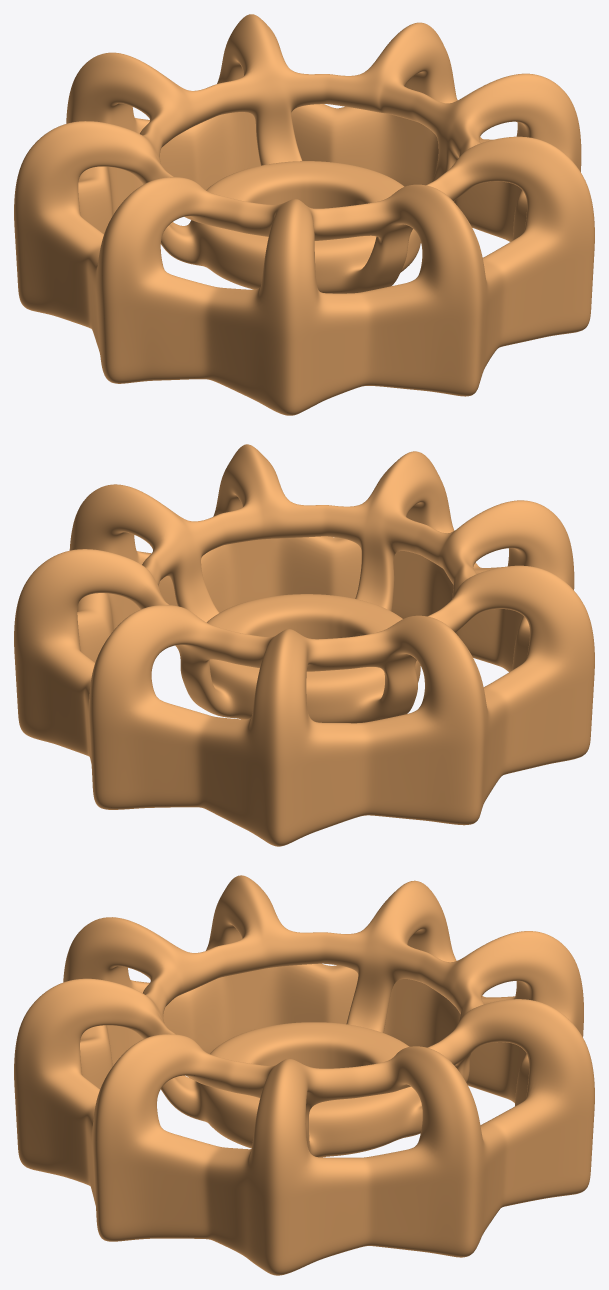
The model's file is Regulator_Valve.fbx.
3 views of the same model, one above another, from view 1: azimuth 30°, elevation 25°; view 2: azimuth 150°, elevation 25°; view 3: azimuth 270°, elevation 25° (orthographic).
Parts seen in each view (by area): view 1: Regulator_Valve; view 2: Regulator_Valve; view 3: Regulator_Valve.
Part boxes in pixels (bbox=[...]): Regulator_Valve: bbox=[14, 14, 594, 415]; Regulator_Valve: bbox=[14, 444, 594, 846]; Regulator_Valve: bbox=[14, 875, 594, 1275].
Size of the model in its own units: 0.3838 by 0.1366 by 0.3851.
